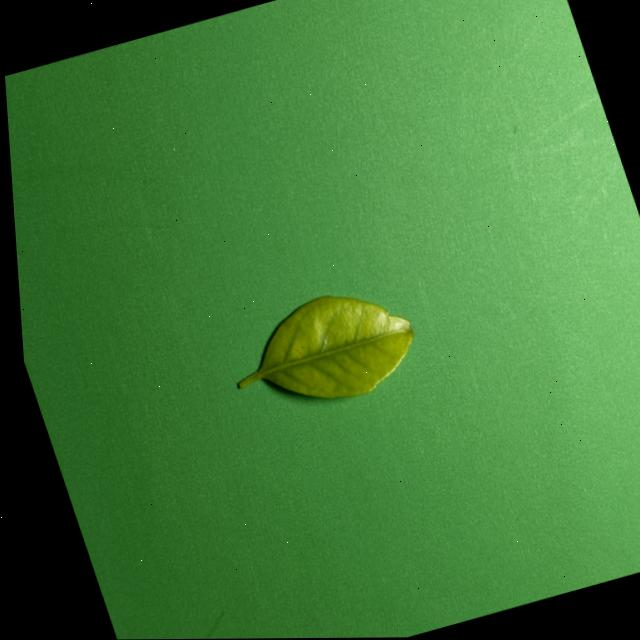greening: (239, 295, 413, 396)
